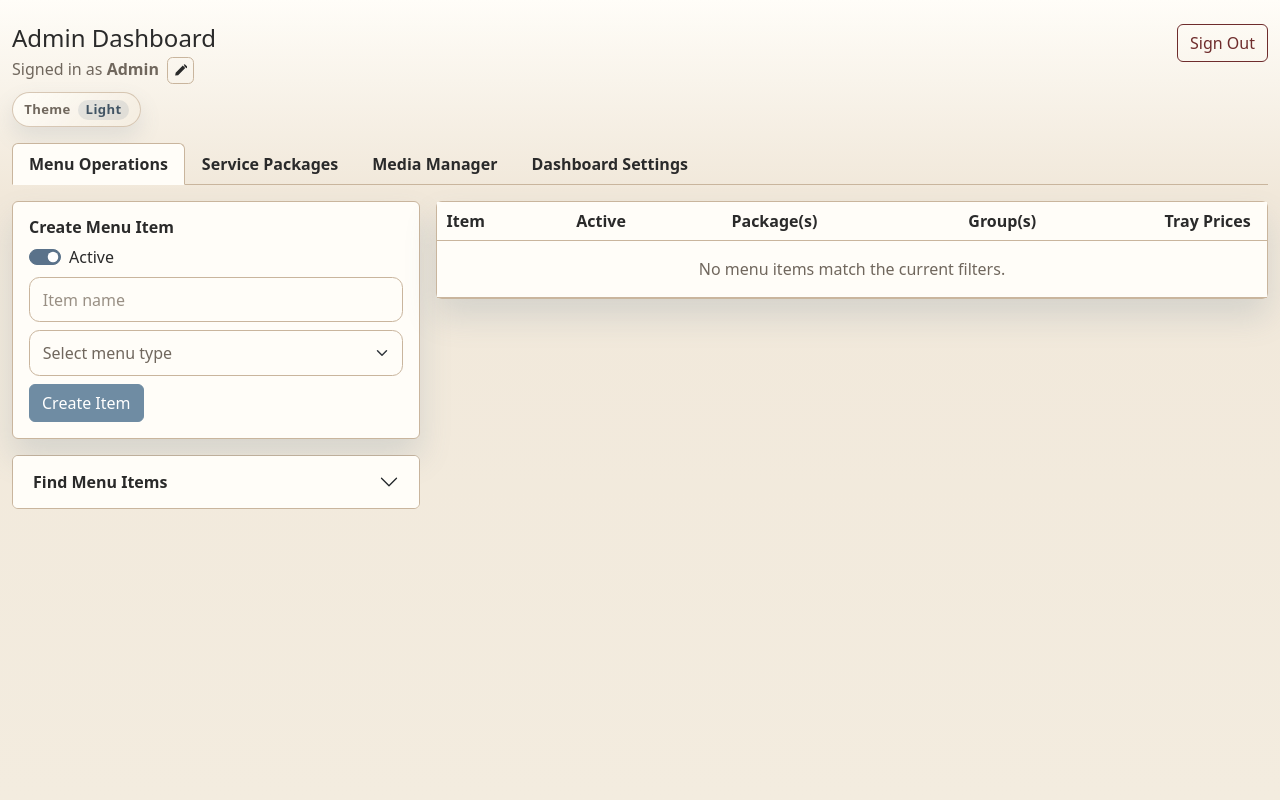
it: AdminDashboard › shows create validation text in modal and keeps invalid field red until changed
expect the heading "Create Menu Item" is shown: met, box [29,216,174,238]
Type "Validation Item" into the field with placeholder "Item name" at (216, 300), box [29,277,403,322]
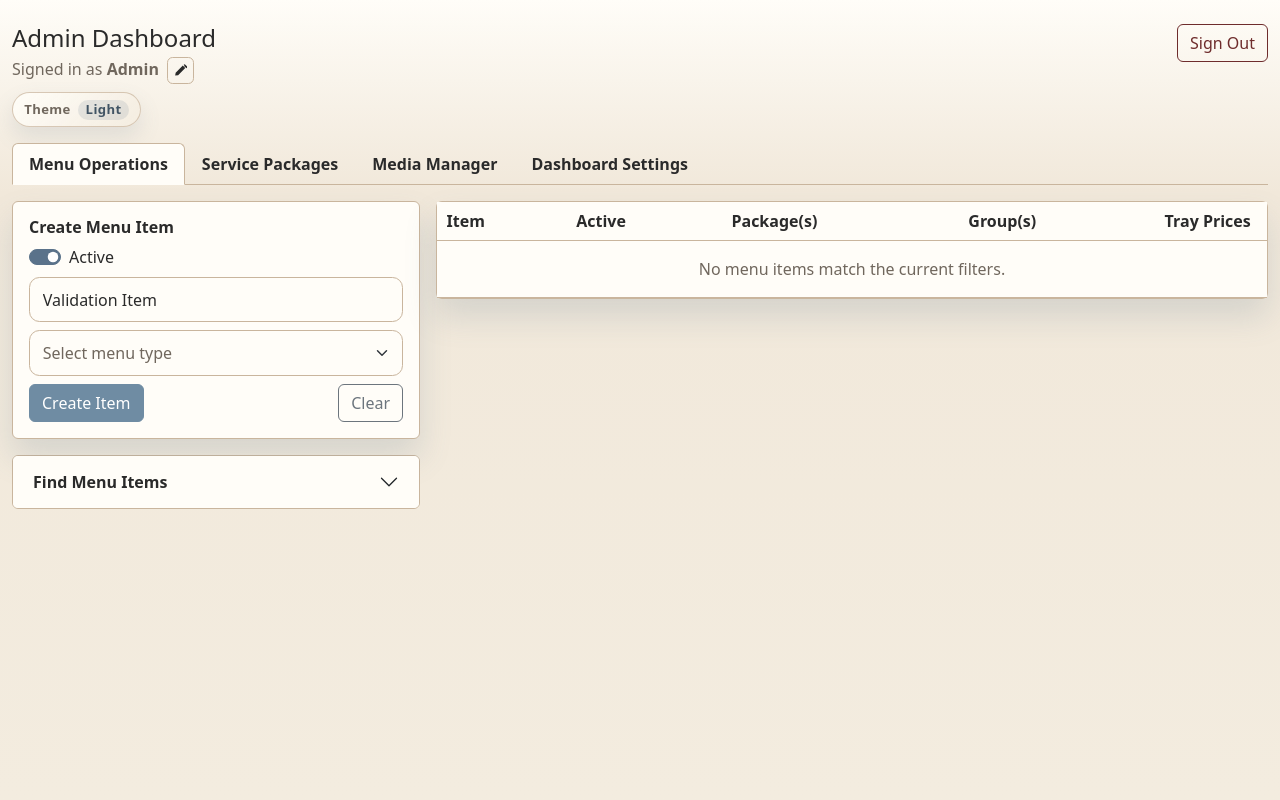
Select "Regular" in the dropdown named "Menu Type" at (216, 353), box [29,330,403,376]
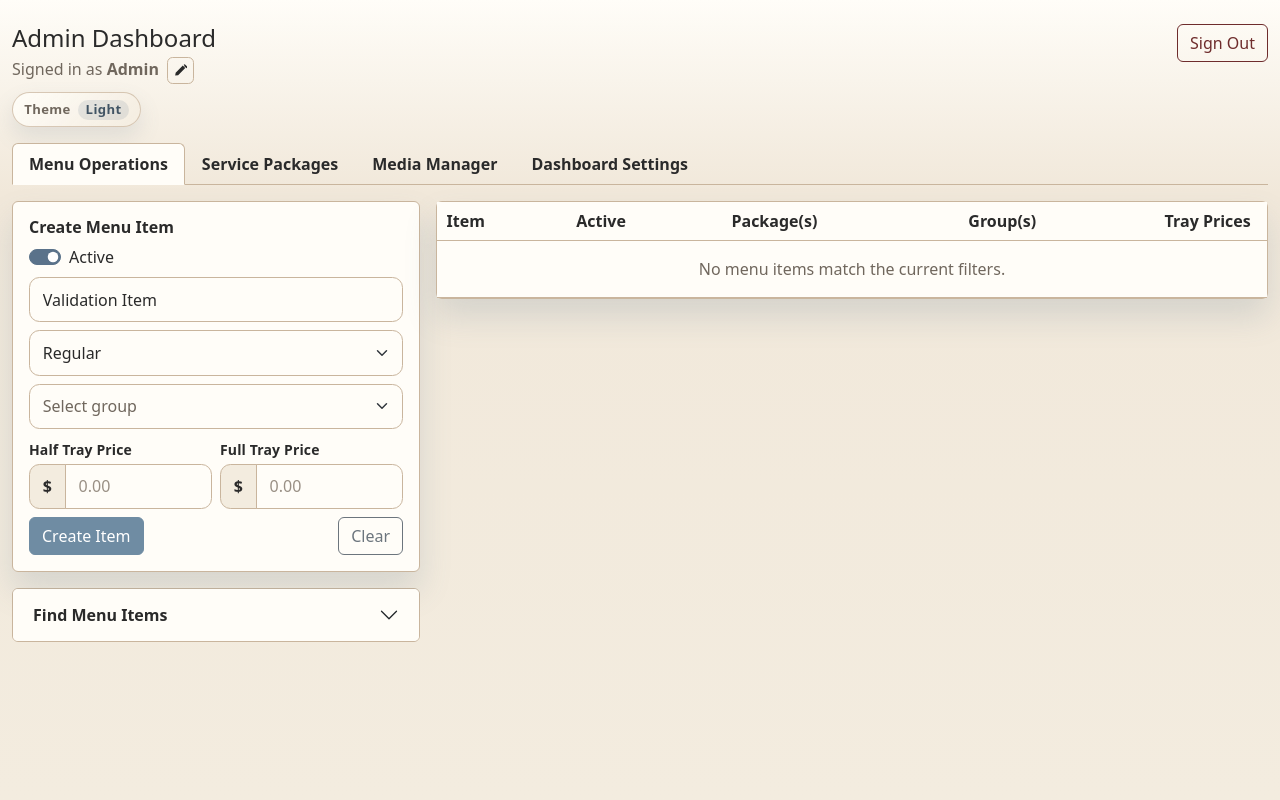
expect the dropdown named "Group" is shown: met, box [29,384,403,429]
Click the button "Create Item" at (86, 536), box [29,517,144,555]
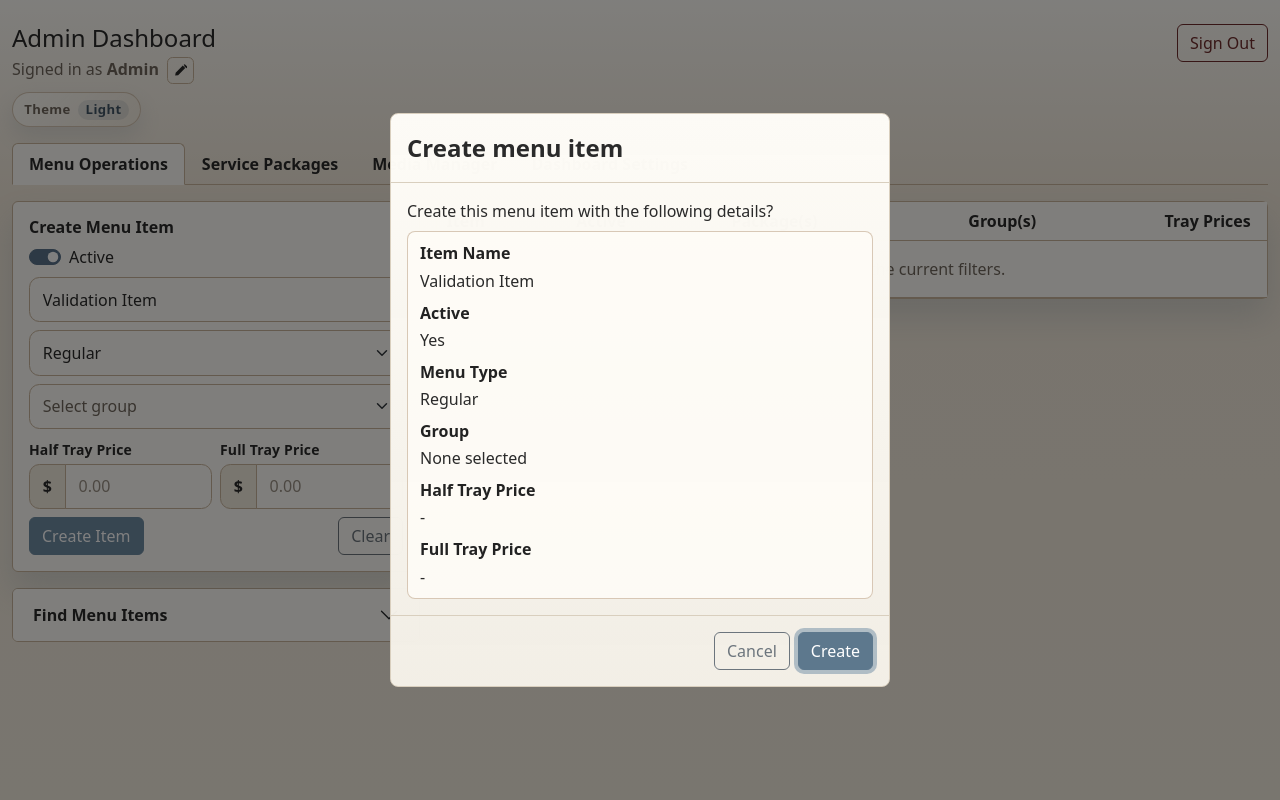
Click the button "Create" at (835, 651), box [798,632,873,670]
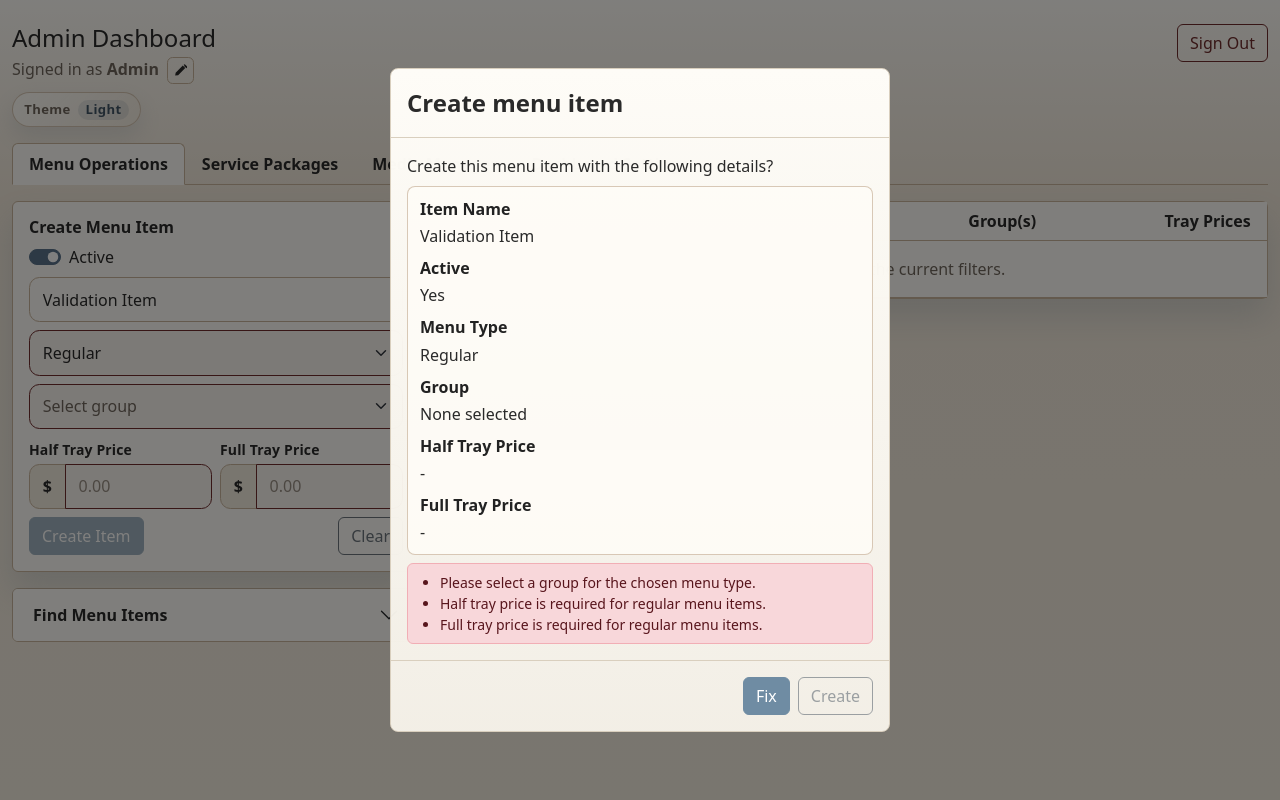
expect the message shows "Please select a group": met, box [440,573,756,592]
expect the button "Create" is disabled: met, box [798,677,873,715]
Press Enter
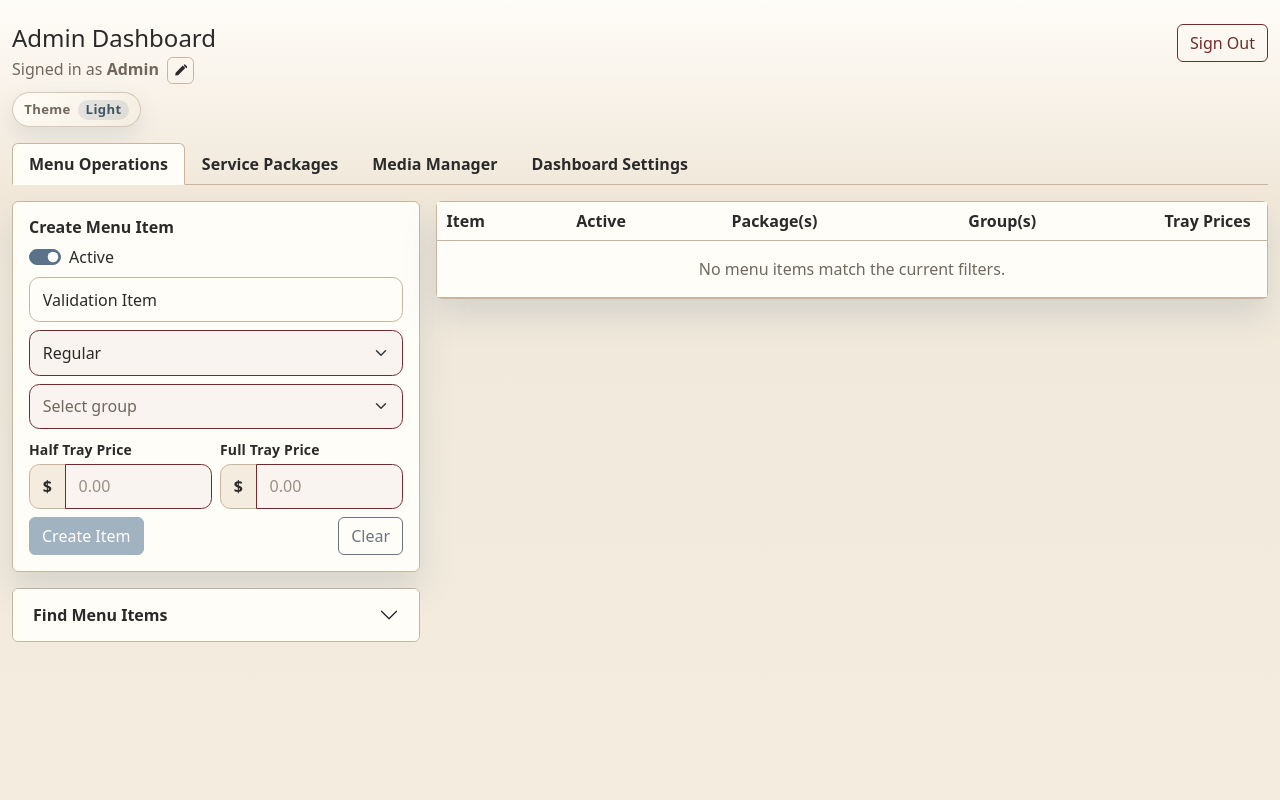
expect the button "Create Item" is disabled: met, box [29,517,144,555]
expect the text "Create this menu item?" is gone: met
Select "Proteins" in the dropdown named "Group" at (216, 406), box [29,384,403,429]
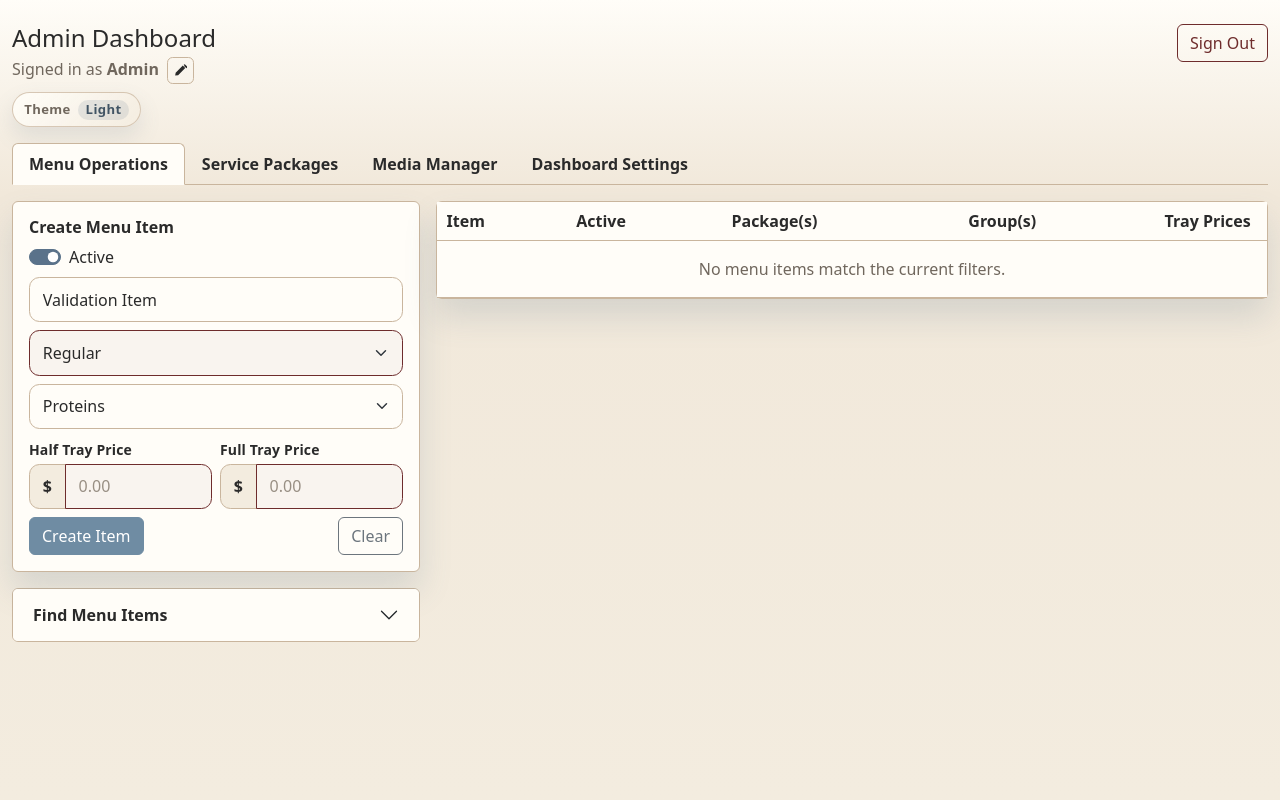
expect the button "Create Item" is enabled: met, box [29,517,144,555]
